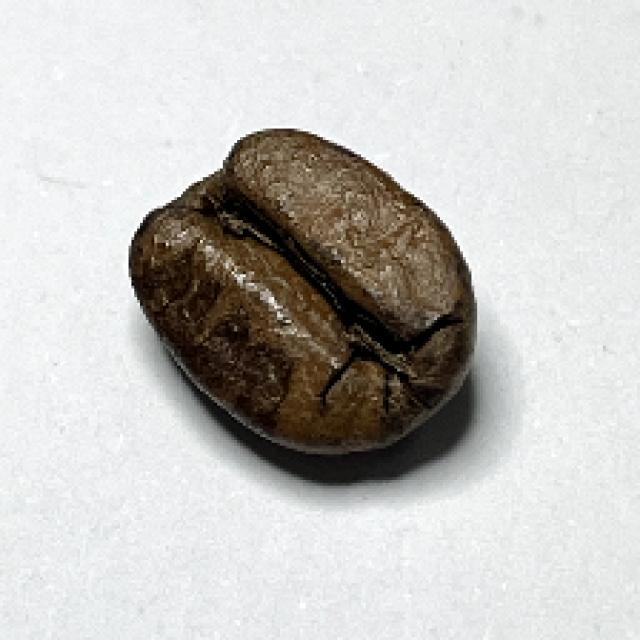bean: (126, 126, 474, 457)
